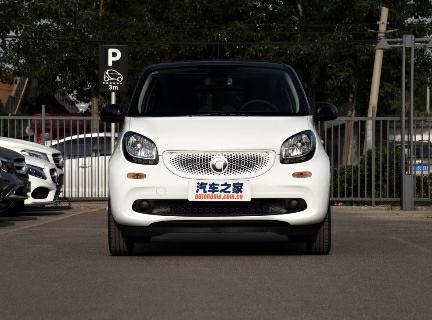smart-forfour: (105, 59, 336, 263), (107, 94, 332, 264)
